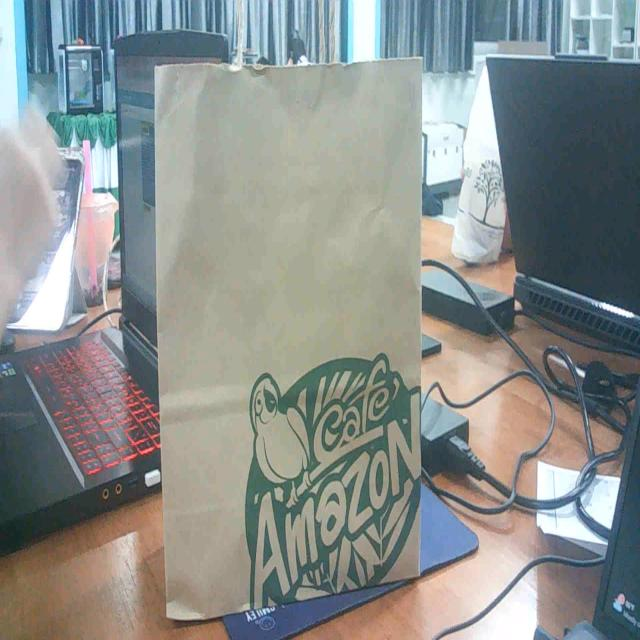bag: (147, 21, 433, 612)
